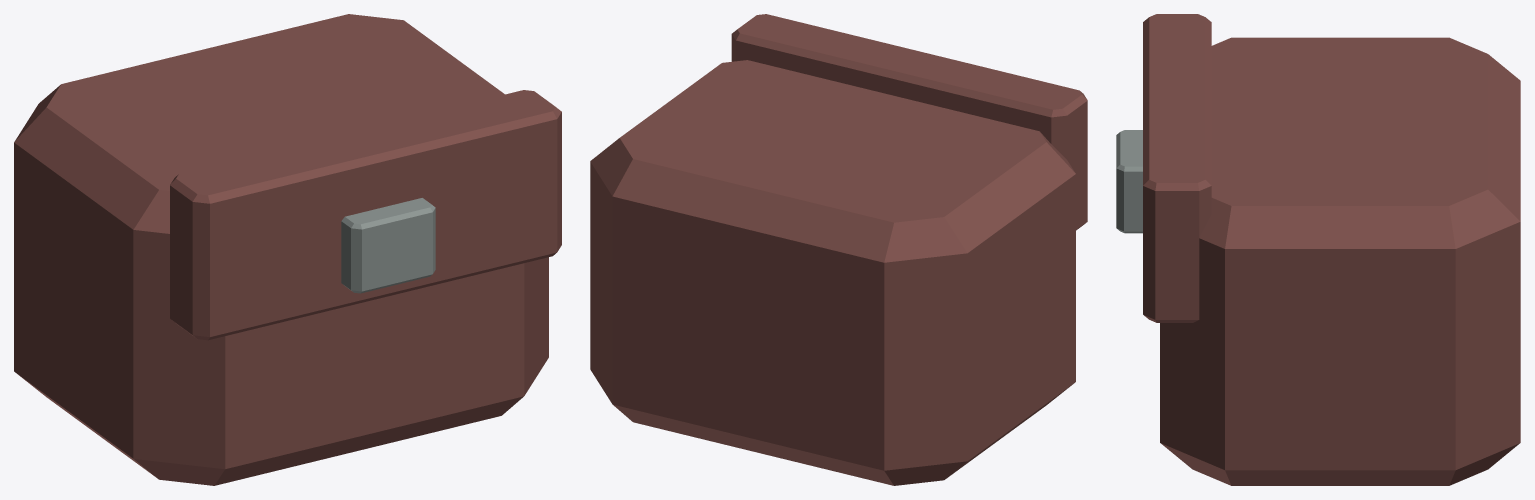
File: supply-pouch.glb
3 views of the same model, side by side, from view 1: azimuth 30°, elevation 25°; view 2: azimuth 150°, elevation 25°; view 3: azimuth 270°, elevation 25° (orthographic). The views are drawn at different scales.
Parts seen in each view (by area): view 1: supply-pouch__body; view 2: supply-pouch__body; view 3: supply-pouch__body.
Boxes of the visible parts, x1,y1,x2,y2 form: supply-pouch__body: (14,14,561,485); supply-pouch__body: (590,14,1087,485); supply-pouch__body: (1116,14,1520,485).
Size of the model in its own units: 0.27 by 0.195 by 0.2355.
